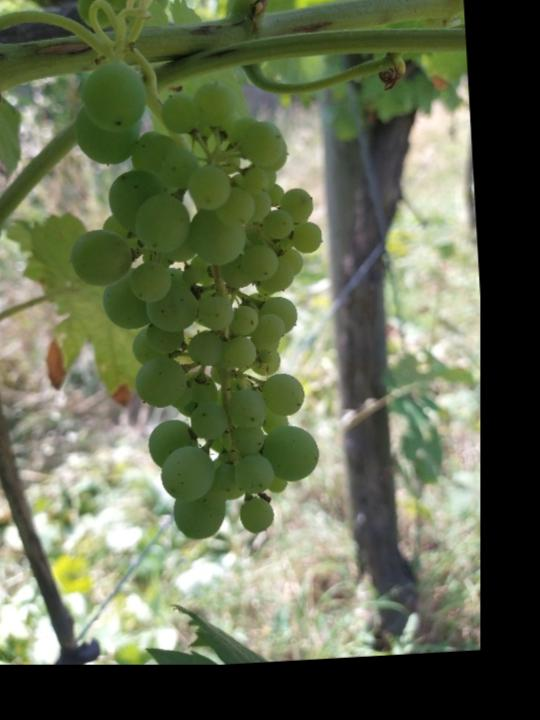grape: (56, 41, 343, 549)
